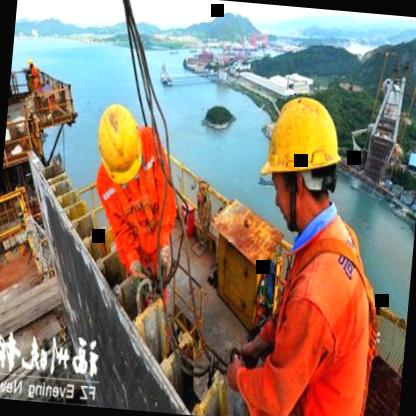helmet: (257, 93, 344, 234), (93, 103, 144, 188)
